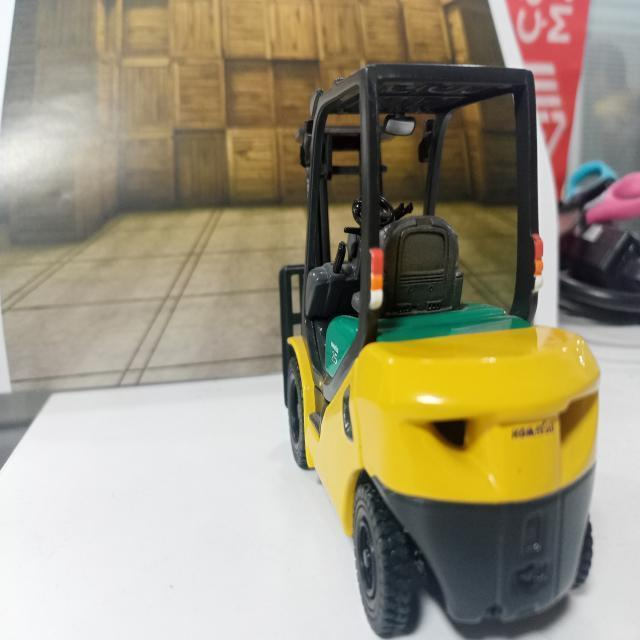forklift: (275, 65, 596, 635)
